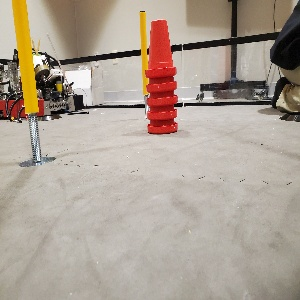Red_5: (145, 18, 177, 134)
